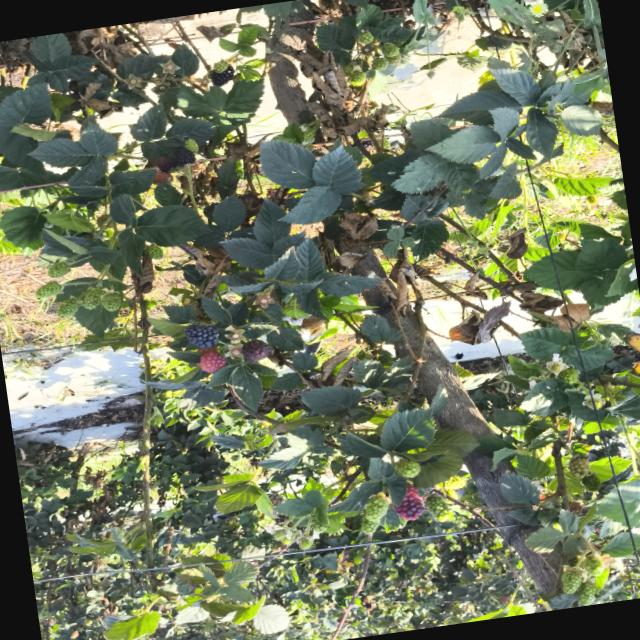maduro: (185, 325, 218, 349), (210, 66, 234, 87), (174, 147, 195, 166)
marron: (394, 485, 424, 520), (199, 347, 226, 373), (242, 340, 270, 361), (156, 157, 177, 173), (153, 171, 172, 184)
verde: (364, 493, 390, 523), (426, 496, 452, 522), (79, 287, 104, 309), (396, 459, 421, 478), (36, 281, 61, 299), (57, 299, 79, 319), (48, 261, 71, 278), (362, 514, 381, 534), (102, 293, 122, 311), (381, 43, 399, 58), (147, 245, 164, 260), (350, 72, 366, 86), (358, 31, 374, 44), (372, 58, 388, 70), (185, 139, 198, 153), (213, 61, 228, 73), (387, 54, 401, 66)
